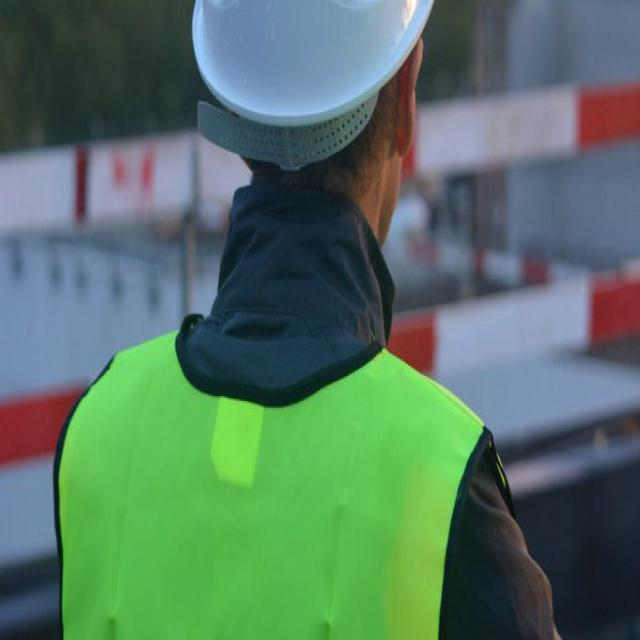helmet: (187, 0, 438, 174)
vest: (47, 322, 519, 640)
